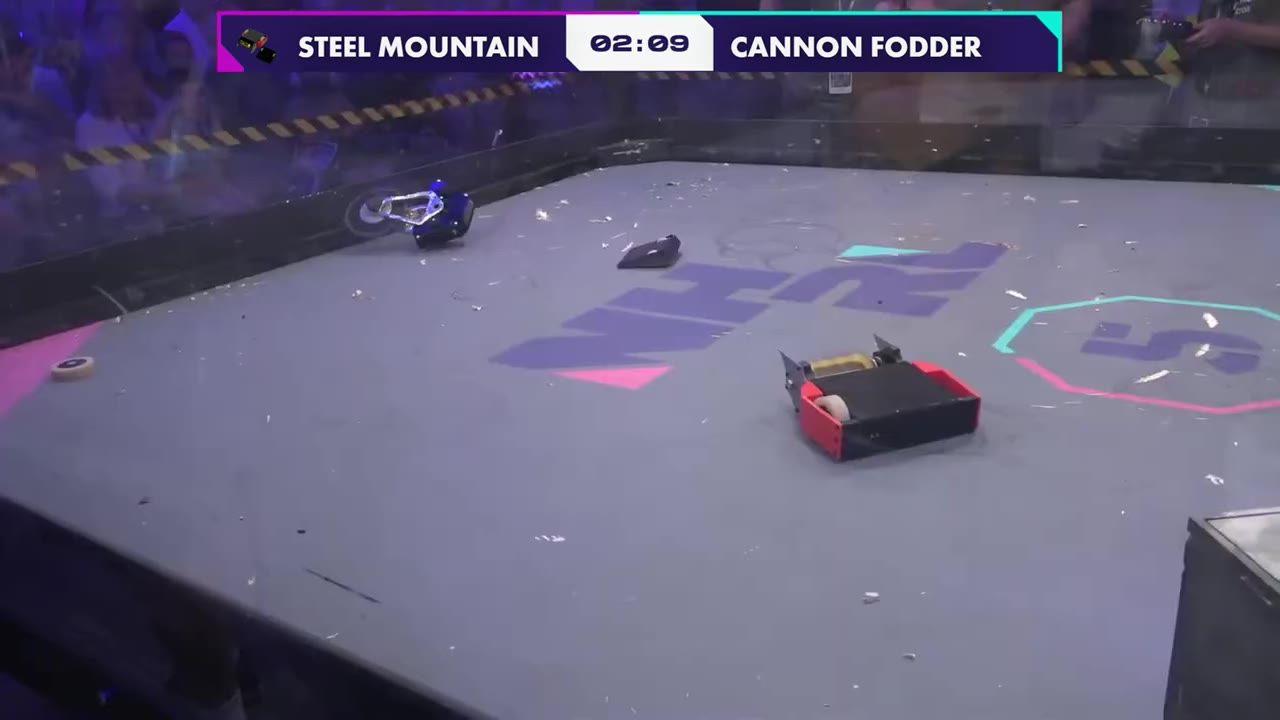combatbot: (778, 335, 985, 463), (345, 183, 478, 250)
housebot: (1159, 498, 1280, 720)
minibot: (618, 236, 681, 270)
wheel: (45, 355, 96, 383)
